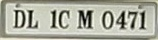character: (77, 9, 93, 30), (101, 9, 114, 30), (57, 9, 70, 29), (115, 10, 127, 30), (13, 9, 25, 28), (26, 9, 38, 28), (126, 10, 138, 29), (49, 9, 58, 29), (138, 10, 146, 30)
